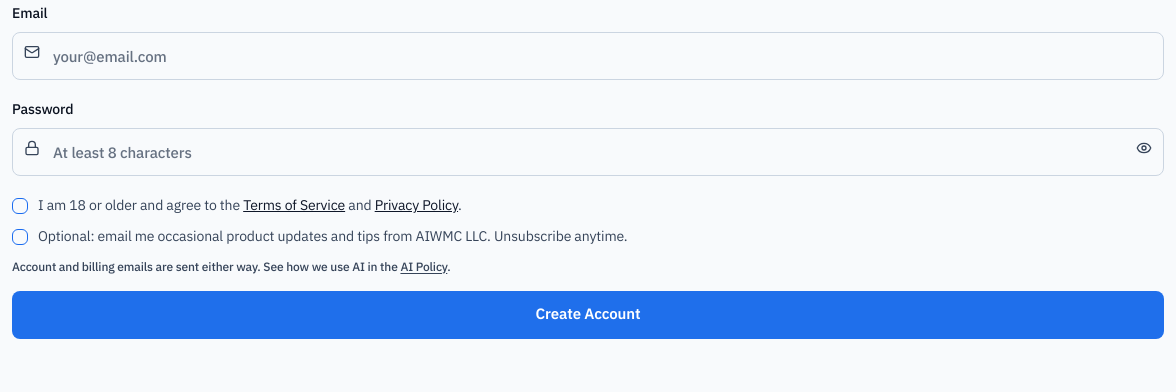
Test: SignupForm consent › blocks account creation until the 18+/Terms box is checked
The image size is (1176, 392).
Type "founder@example.com" into the field labelled "Email" at (588, 56), box [12,32,1164,80]
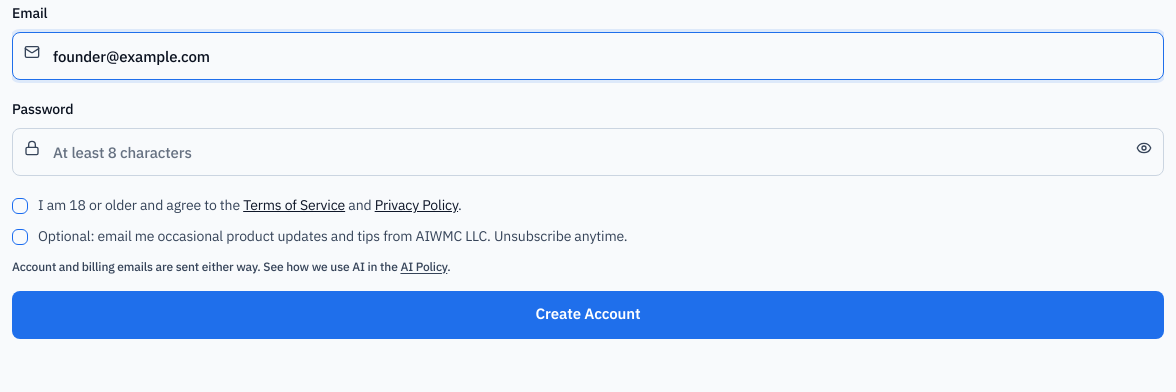
Type "a-long-password" into the password field labelled "Password" at (588, 152), box [12,128,1164,176]
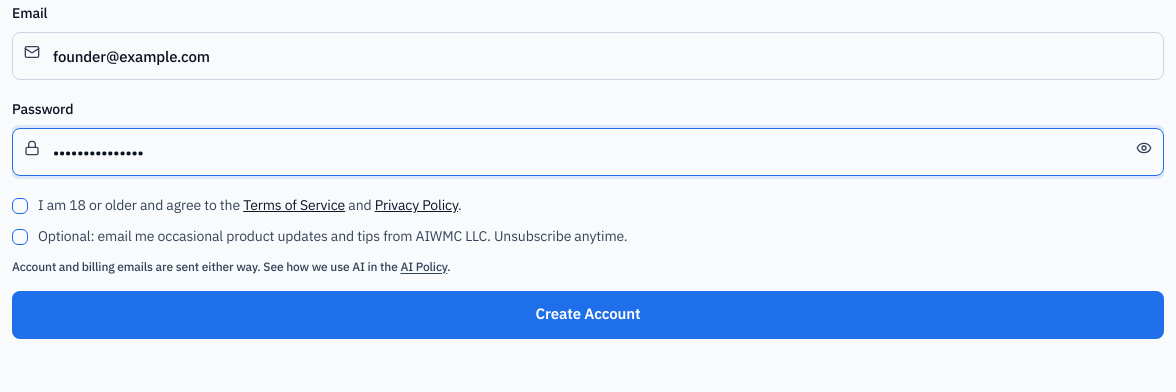
Click the button "Create Account" at (588, 314), box [12,290,1164,338]
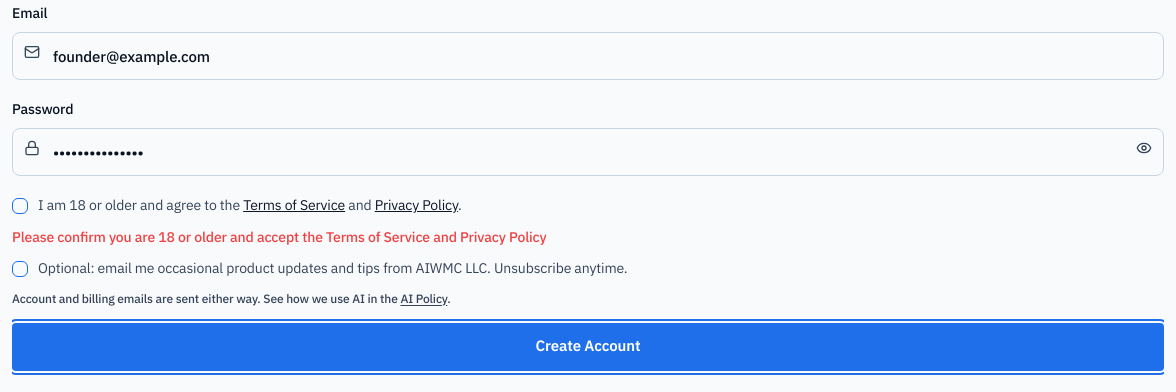
Now the message shows "18 or older", box [12,228,547,246]
